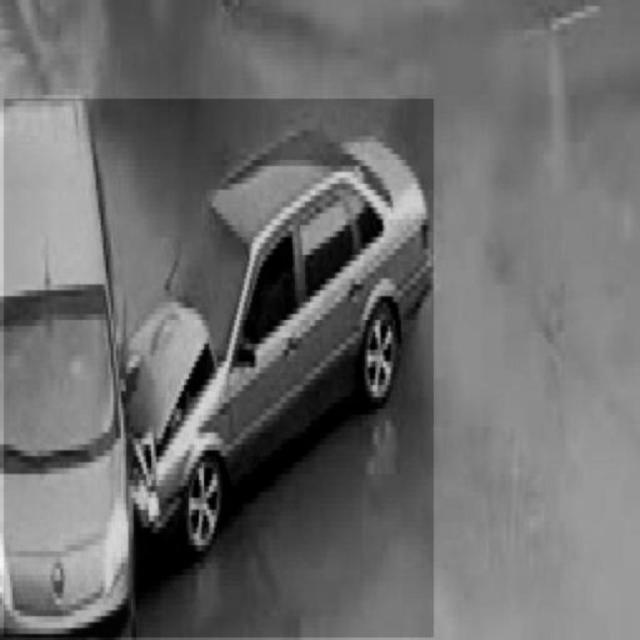accident: (4, 99, 434, 637)
